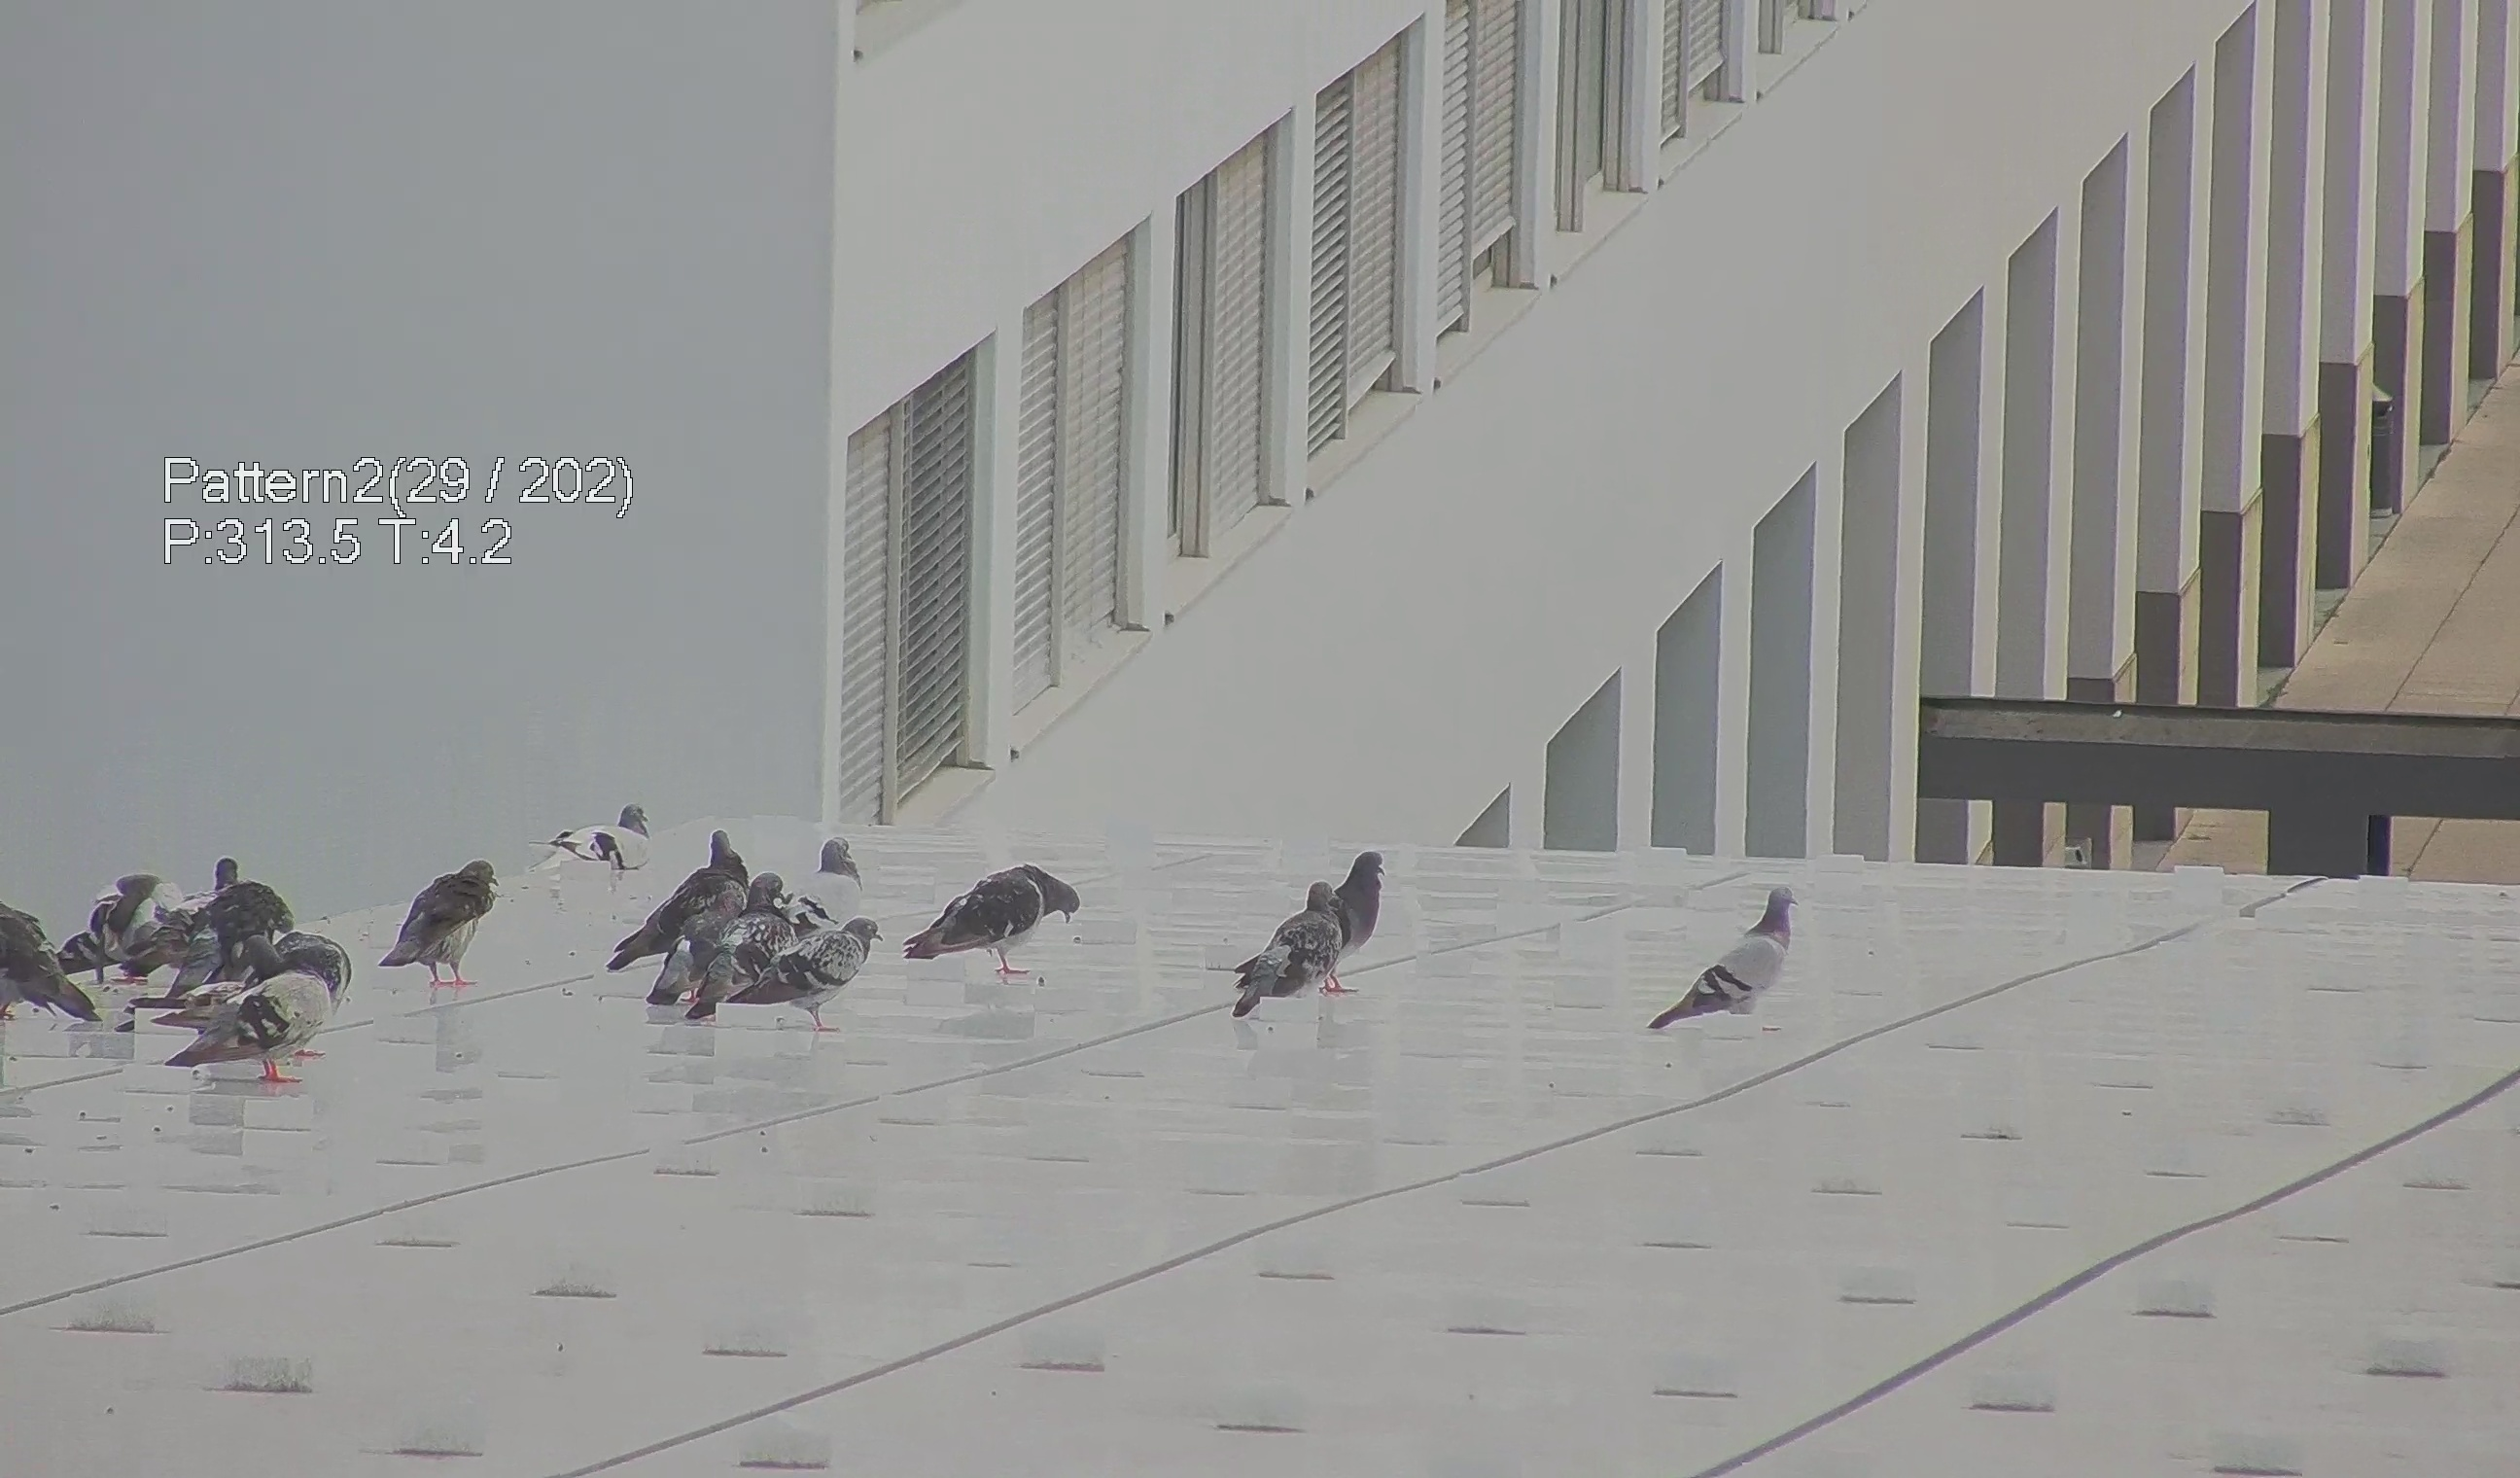Pigeon: (146, 934, 364, 1084), (1653, 885, 1820, 1042), (899, 852, 1092, 984), (610, 820, 749, 992), (1220, 874, 1347, 1028), (375, 848, 506, 989), (730, 913, 899, 1022), (167, 892, 318, 1005), (696, 866, 795, 1019), (2, 894, 97, 1040), (130, 845, 253, 940), (533, 794, 658, 880), (1329, 845, 1387, 962), (811, 832, 878, 927)
